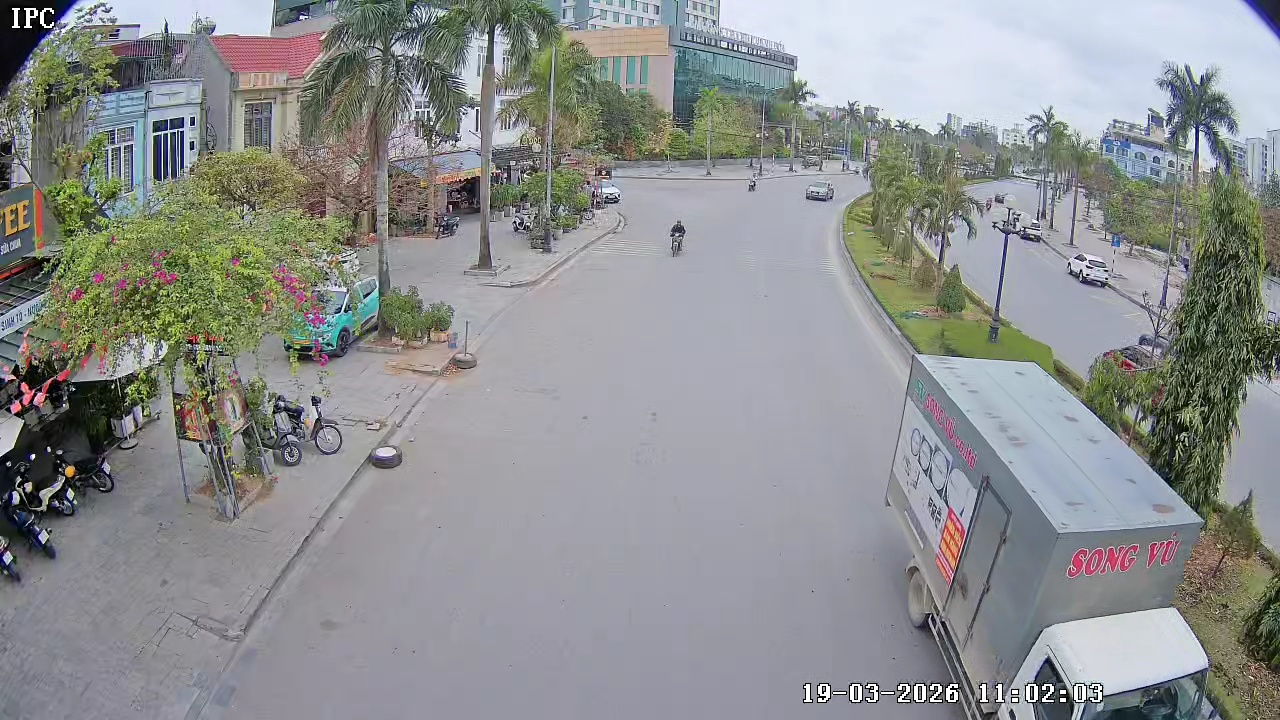bike: (264, 389, 304, 464), (308, 379, 344, 456)
car: (1065, 251, 1114, 289), (803, 175, 836, 203)
motorbike: (0, 523, 24, 585), (667, 218, 688, 257), (745, 162, 760, 194)
